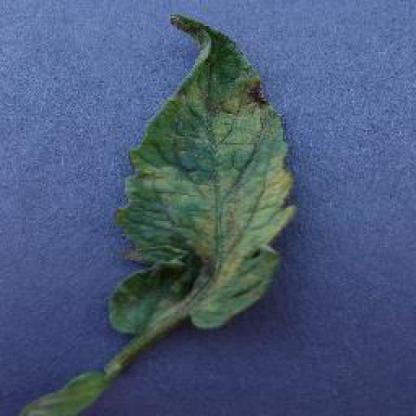Tomato_Leaf_Mold: (108, 14, 291, 337)
